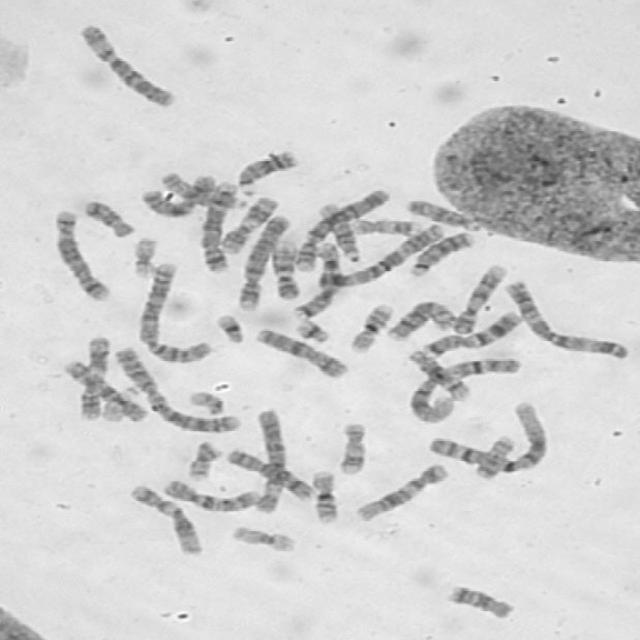A1: (426, 397, 553, 475), (405, 353, 523, 425)
A2: (108, 342, 241, 434), (132, 258, 215, 364)
A3: (499, 275, 634, 360), (312, 218, 448, 290)
B4: (287, 184, 391, 273), (232, 210, 292, 311)
B5: (49, 204, 112, 301), (195, 176, 241, 274)
C10: (58, 356, 150, 423), (158, 474, 263, 514)
C11: (216, 192, 281, 254), (74, 332, 113, 422)
C12: (124, 479, 206, 556), (350, 460, 451, 522)
C6: (73, 18, 179, 108), (248, 404, 288, 514)
C7: (417, 307, 523, 358), (288, 238, 346, 320)
C8: (224, 444, 316, 502), (383, 296, 458, 341)
C9: (448, 259, 509, 335), (267, 234, 302, 301)
D13: (405, 227, 477, 277), (233, 146, 301, 197)
D14: (403, 346, 473, 402), (313, 198, 363, 262)
D15: (157, 168, 252, 210), (401, 194, 482, 231)
E16: (345, 299, 397, 353), (307, 465, 343, 524)
E17: (333, 418, 369, 476), (346, 213, 427, 237)
E18: (443, 579, 518, 621), (78, 196, 138, 238)
F19: (227, 521, 299, 554), (127, 232, 161, 279)
F20: (471, 432, 518, 480), (182, 436, 224, 481)
G21: (290, 314, 333, 344), (211, 310, 247, 345)
G22: (97, 382, 144, 423), (184, 386, 228, 416)
X: (250, 324, 351, 380), (136, 170, 218, 218)
